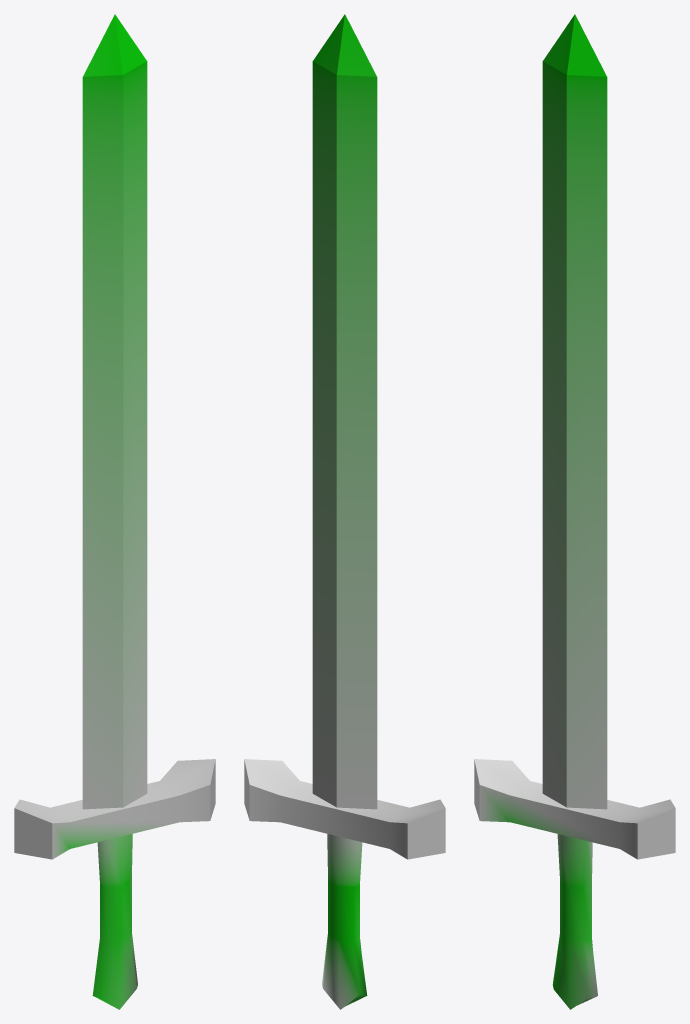
Rendered from WoodSword.fbx.
3 views of the same model, side by side, from view 1: azimuth 30°, elevation 25°; view 2: azimuth 150°, elevation 25°; view 3: azimuth 330°, elevation 25° (orthographic).
Parts seen in each view (by area): view 1: WoodSword; view 2: WoodSword; view 3: WoodSword.
Part boxes in pixels (x1,y1,x2,y2): WoodSword: (14,14,215,1009); WoodSword: (244,14,445,1009); WoodSword: (474,14,675,1009).
Bounding box in the file's own units: 0.2164 × 1.02 × 0.0609.
